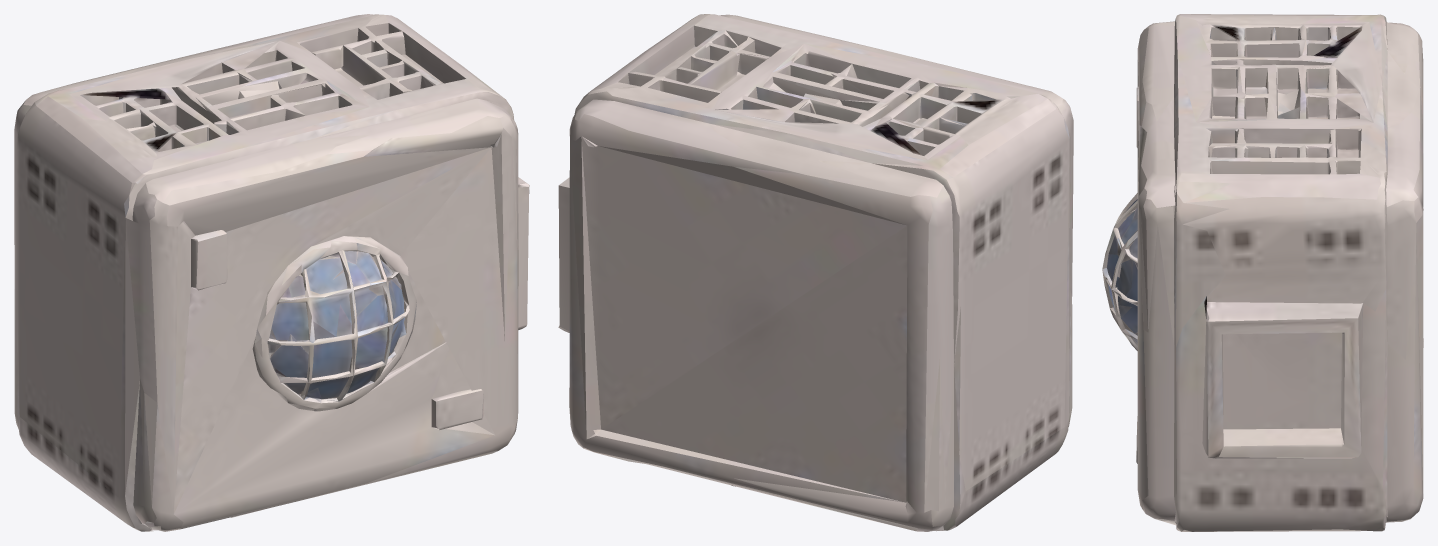
The model's file is gozlemevi.glb.
3 views of the same model, side by side, from view 1: azimuth 30°, elevation 25°; view 2: azimuth 150°, elevation 25°; view 3: azimuth 270°, elevation 25° (orthographic). The views are drawn at different scales.
Size of the model in its own units: 1.9 by 1.72 by 1.28.
Materials: 1 (1 with a texture image).
